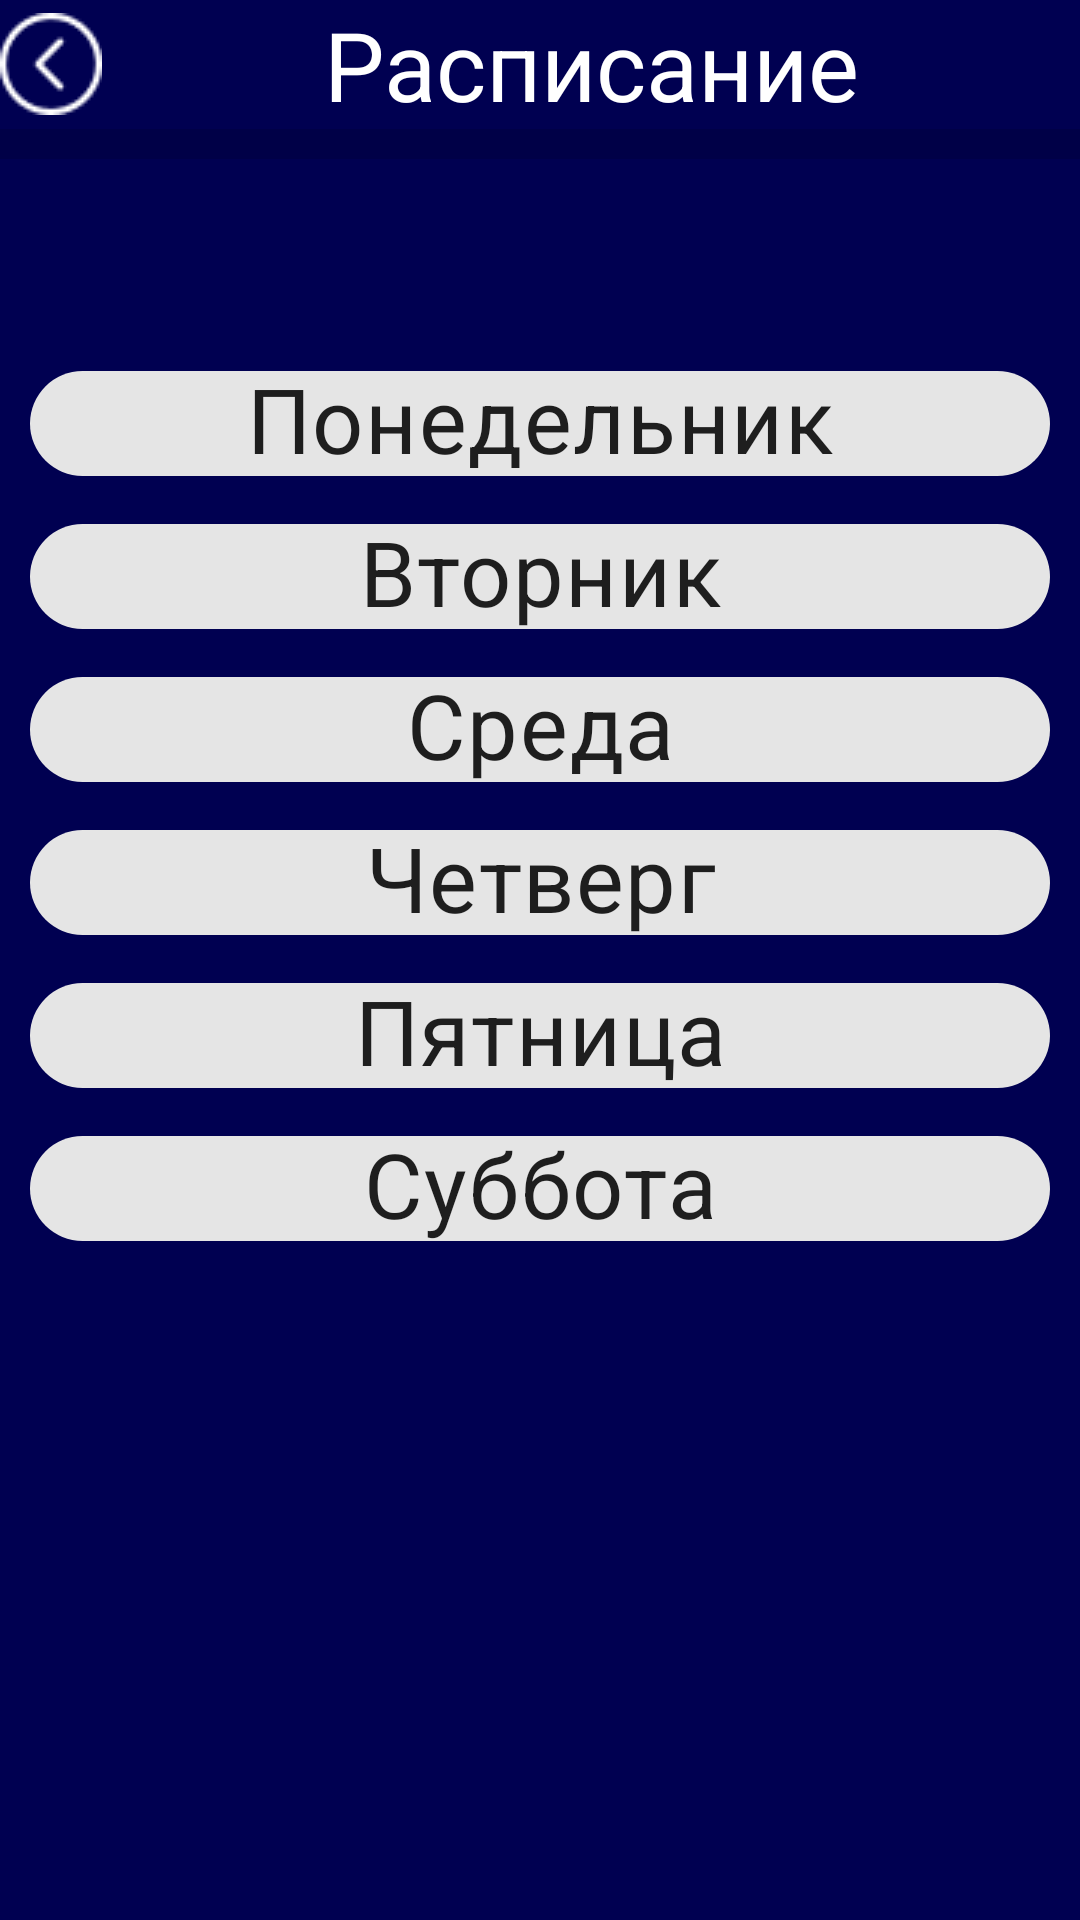

Icons on this 1080px×1920px Android screen, each with its box as {"x1": x1, "y1": y1, "x2": x2, "y2": y2}:
backbutton: {"x1": 0, "y1": 13, "x2": 102, "y2": 115}
